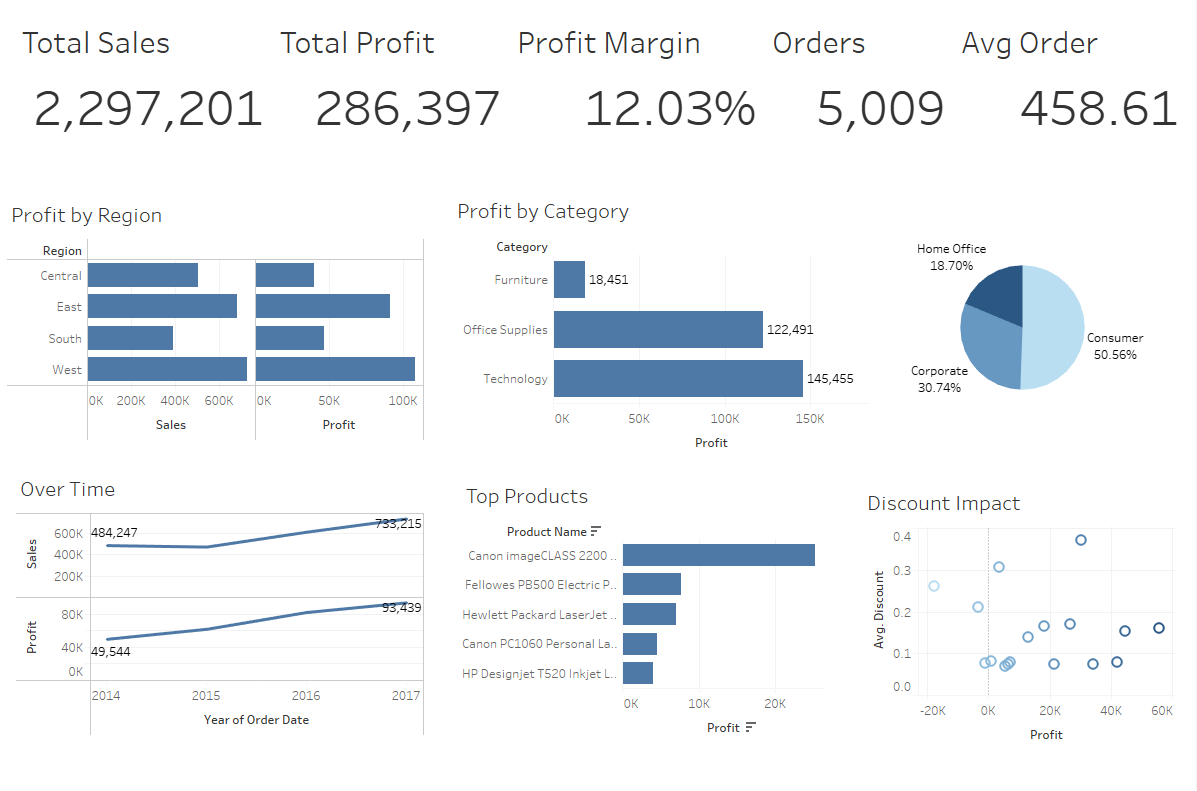

Layout of this report page (visuals, bound fields, positions):
{"tool":"tableau","page":{"name":"Dashboard","canvas":[1200,800],"ordinal":0},"visuals":[{"type":"worksheet","title":"Total Sales","mark":"Automatic","box":[18,18,258,174]},{"type":"worksheet","title":"Total Profit","mark":"Automatic","box":[276,18,237,174]},{"type":"worksheet","title":"Profit Margin","mark":"Automatic","box":[513,18,255,174]},{"type":"worksheet","title":"Total Orders","mark":"Automatic","box":[768,18,189,174]},{"type":"worksheet","title":"Average Order","mark":"Automatic","box":[957,18,234,174]},{"type":"worksheet","title":"Customer Segment","mark":"Pie","box":[902,192,249,266]},{"type":"worksheet","title":"Category","mark":"Automatic","rows":["Category"],"cols":["Profit"],"box":[457,197,417,266]},{"type":"worksheet","title":"By Region","mark":"Automatic","rows":["Region"],"cols":["Sales","Profit"],"box":[11,201,417,245]},{"type":"worksheet","title":"Over Time","mark":"Automatic","rows":["Sales","Profit"],"cols":["Order Date"],"box":[20,475,408,266]},{"type":"worksheet","title":"Top Products","mark":"Automatic","rows":["Product Name"],"cols":["Profit"],"box":[466,482,363,266]},{"type":"worksheet","title":"Discount Impact","mark":"Automatic","rows":["Discount"],"cols":["Profit"],"box":[867,489,312,266]}]}

Visuals, with their boxes in screenshot pixels (x1, y1, x2, y2), scaled from the page's 1200x800 canvas onto the 1197x791 screenshot:
"Total Sales" worksheet: crop(18, 18, 275, 190)
"Total Profit" worksheet: crop(275, 18, 512, 190)
"Profit Margin" worksheet: crop(512, 18, 766, 190)
"Total Orders" worksheet: crop(766, 18, 955, 190)
"Average Order" worksheet: crop(955, 18, 1188, 190)
"Customer Segment" worksheet (Pie marks): crop(900, 190, 1148, 453)
"Category" worksheet: crop(456, 195, 872, 458)
"By Region" worksheet: crop(11, 199, 427, 441)
"Over Time" worksheet: crop(20, 470, 427, 733)
"Top Products" worksheet: crop(465, 477, 827, 740)
"Discount Impact" worksheet: crop(865, 483, 1176, 747)
